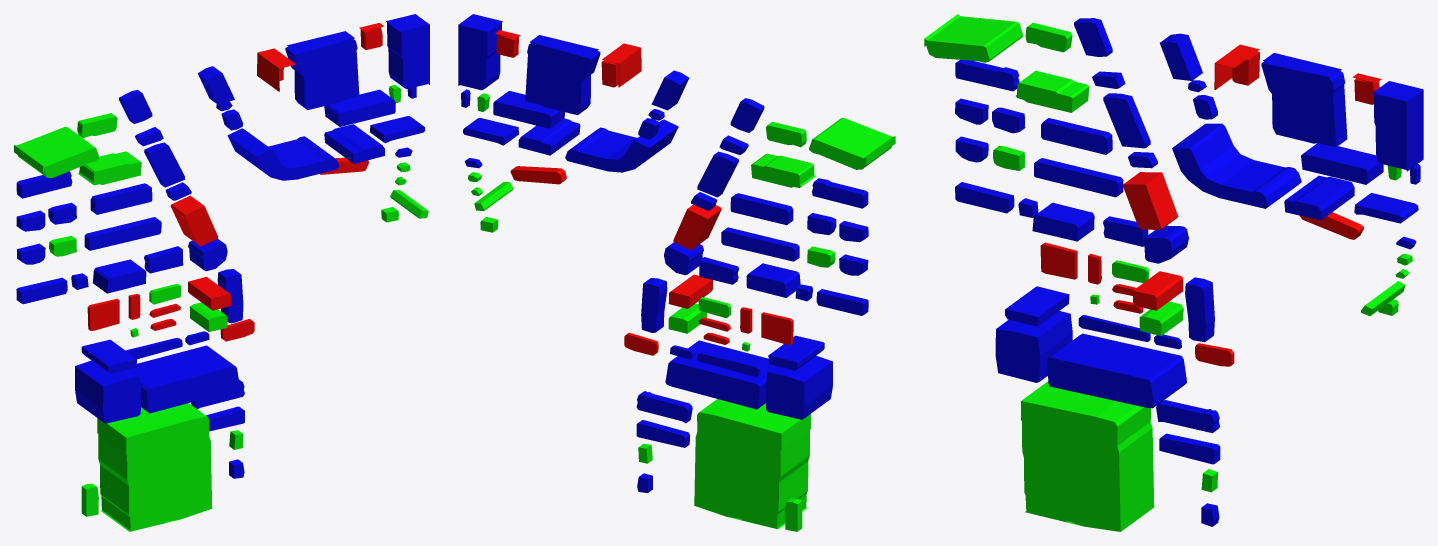
The picture shows the model from 3 angles, left to right: view 1: azimuth 30°, elevation 25°; view 2: azimuth 150°, elevation 25°; view 3: azimuth 330°, elevation 25°; orthographic projection. The views are drawn at different scales.
Visible parts, largest first — view 1: building_57, building_55, building_2, building_19, building_54, building_4, building_9, building_17, building_20, building_13, building_27, building_31 (+27 smaller); view 2: building_57, building_2, building_55, building_54, building_19, building_4, building_9, building_13, building_17, building_31, building_20, building_37 (+27 smaller); view 3: building_57, building_55, building_2, building_19, building_4, building_54, building_9, building_27, building_17, building_13, building_20, building_31 (+30 smaller).
Boxes of the visible parts, <box> form: building_57: <box>97,403,212,531</box>; building_55: <box>130,345,239,413</box>; building_2: <box>285,31,359,109</box>; building_19: <box>227,128,339,180</box>; building_54: <box>75,360,141,423</box>; building_4: <box>386,14,429,88</box>; building_9: <box>14,127,99,177</box>; building_17: <box>324,89,395,126</box>; building_20: <box>324,124,384,163</box>; building_13: <box>78,151,141,185</box>; building_27: <box>170,195,218,246</box>; building_31: <box>84,217,161,250</box>; building_57: <box>694,399,810,529</box>; building_2: <box>525,35,600,115</box>; building_55: <box>665,340,775,409</box>; building_54: <box>765,355,832,419</box>; building_19: <box>565,119,678,172</box>; building_4: <box>458,14,502,90</box>; building_9: <box>809,118,895,169</box>; building_13: <box>751,153,815,187</box>; building_17: <box>493,91,564,128</box>; building_31: <box>721,227,799,261</box>; building_20: <box>518,118,580,155</box>; building_37: <box>746,263,800,297</box>; building_57: <box>1021,381,1154,531</box>; building_55: <box>1047,333,1186,408</box>; building_2: <box>1261,53,1347,147</box>; building_19: <box>1172,123,1301,208</box>; building_4: <box>1373,81,1423,171</box>; building_54: <box>995,311,1072,382</box>; building_9: <box>924,14,1022,62</box>; building_27: <box>1123,172,1178,229</box>; building_17: <box>1301,143,1383,184</box>; building_13: <box>1016,70,1089,112</box>; building_20: <box>1284,175,1354,220</box>; building_31: <box>1034,158,1123,197</box>.
Size of the model in its own units: 2047 by 2047 by 255.
